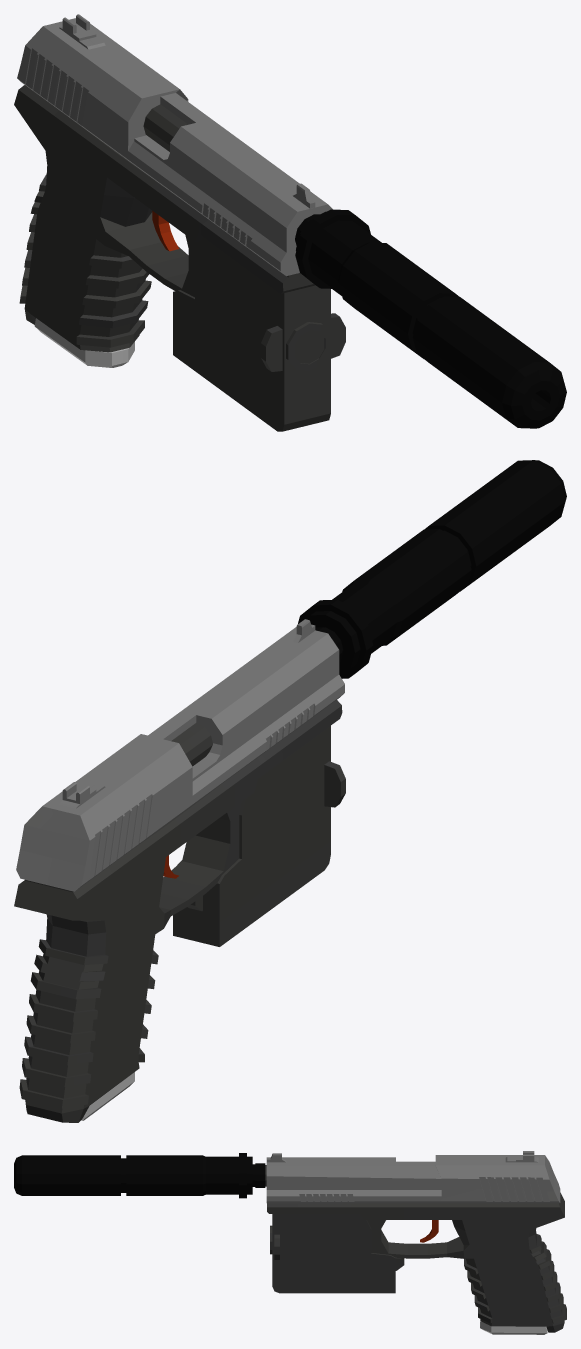
The model's file is USP.fbx.
3 renders of one model, top to bottom at view 1: azimuth 30°, elevation 25°; view 2: azimuth 150°, elevation 25°; view 3: azimuth 270°, elevation 25°, orthographic. The views are drawn at different scales.
Parts seen in each view (by area): view 1: USP_base, USP_chien, USP_silencieux, USP_chargeur, USP_gachette; view 2: USP_base, USP_chien, USP_silencieux; view 3: USP_base, USP_chien, USP_silencieux, USP_chargeur.
Boxes of the visible parts, left/top/right/bottom form: USP_base: left=14, top=85, right=345, bottom=431; USP_chien: left=17, top=14, right=332, bottom=276; USP_silencieux: left=295, top=209, right=566, bottom=428; USP_chargeur: left=34, top=318, right=134, bottom=367; USP_gachette: left=152, top=211, right=179, bottom=251; USP_base: left=14, top=700, right=345, bottom=1122; USP_chien: left=16, top=619, right=344, bottom=891; USP_silencieux: left=298, top=460, right=566, bottom=678; USP_base: left=265, top=1165, right=566, bottom=1332; USP_chien: left=266, top=1151, right=560, bottom=1203; USP_silencieux: left=14, top=1153, right=265, bottom=1198; USP_chargeur: left=480, top=1321, right=547, bottom=1334.
Bounding box in the file's own units: 44.78 × 170 × 485.
Materials: 1 (1 with a texture image).
